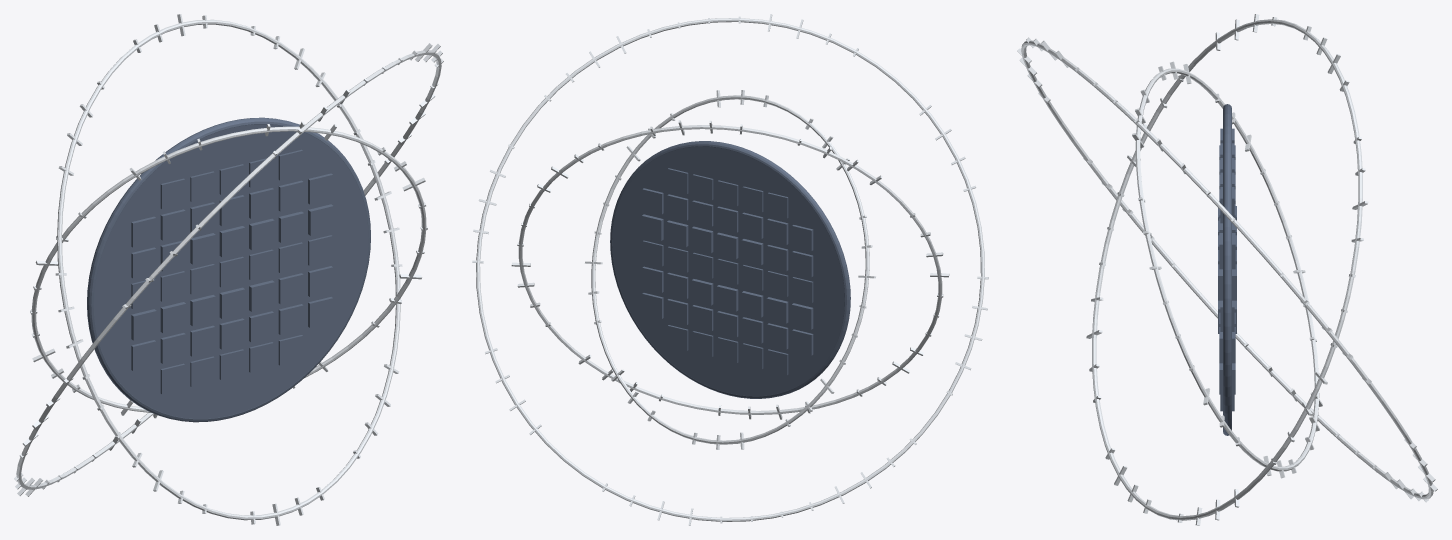
Rendered from edition-04-wafer.glb.
The picture shows the model from 3 angles, left to right: view 1: azimuth 30°, elevation 25°; view 2: azimuth 150°, elevation 25°; view 3: azimuth 270°, elevation 25°; orthographic projection. The views are drawn at different scales.
Parts seen in each view (by area): view 1: Wafer_Disc, Wafer_AcousticRings; view 2: Wafer_Disc, Wafer_AcousticRings; view 3: Wafer_AcousticRings, Wafer_Disc.
Boxes of the visible parts, box(x1,y1,x2,y2) form: Wafer_Disc: box(87, 117, 370, 422); Wafer_AcousticRings: box(14, 14, 443, 525); Wafer_Disc: box(610, 141, 850, 398); Wafer_AcousticRings: box(472, 14, 988, 525); Wafer_AcousticRings: box(1017, 14, 1437, 525); Wafer_Disc: box(1218, 104, 1236, 435).
Size of the model in its own units: 3.51 by 3.17 by 2.56.
